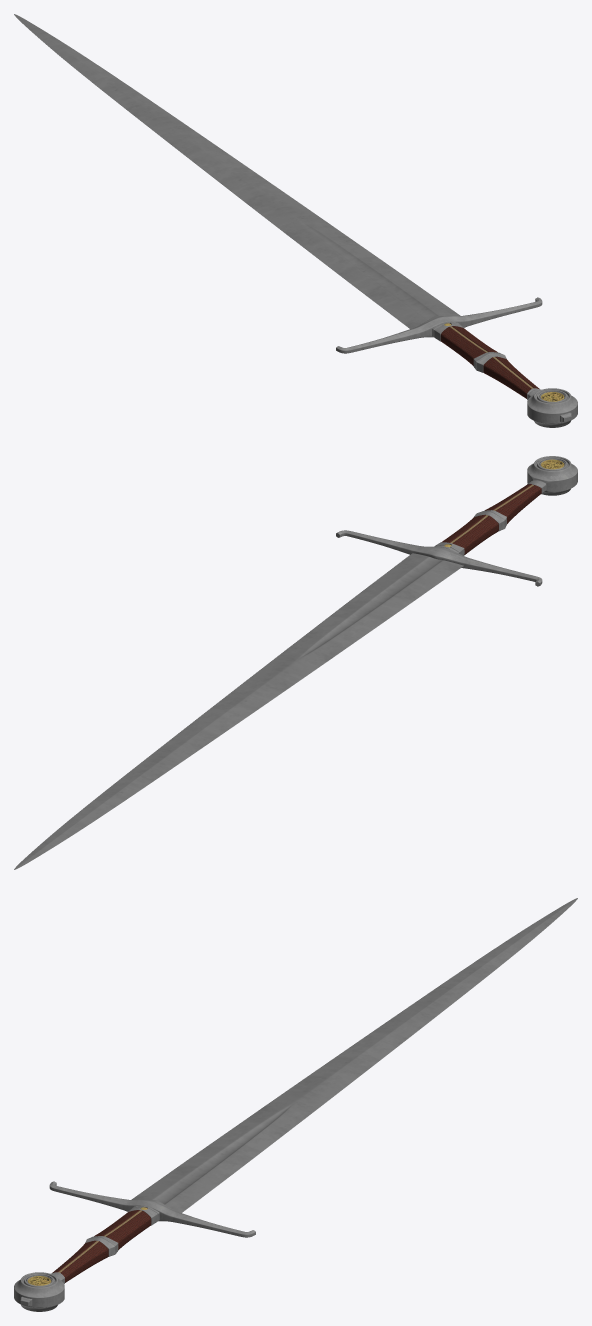
Rendered from sword-transformed.glb.
3 views of the same model, one above another, from view 1: azimuth 30°, elevation 25°; view 2: azimuth 150°, elevation 25°; view 3: azimuth 330°, elevation 25° (orthographic).
Visible parts, largest first — view 1: Box209_blade_0, Box210, Box211; view 2: Box209_blade_0, Box210, Box211; view 3: Box209_blade_0, Box210, Box211.
Boxes of the visible parts, x1,y1,x2,y2 form: Box209_blade_0: (14,14,460,328); Box210: (336,297,577,427); Box211: (440,326,539,398); Box209_blade_0: (14,553,463,869); Box210: (336,456,577,586); Box211: (441,484,541,554); Box209_blade_0: (131,898,577,1212); Box210: (14,1181,255,1311); Box211: (52,1210,151,1282).
Size of the model in its own units: 0.25 by 0.0285 by 1.18.
8 materials, 7 textured.
